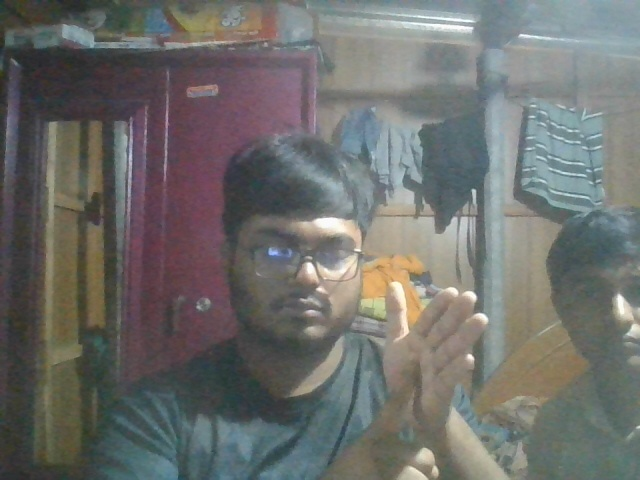r: (340, 287, 506, 480)
